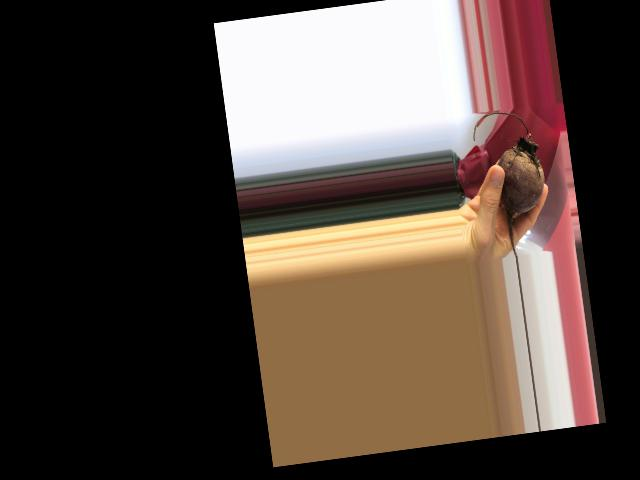beet: (470, 106, 554, 260)
